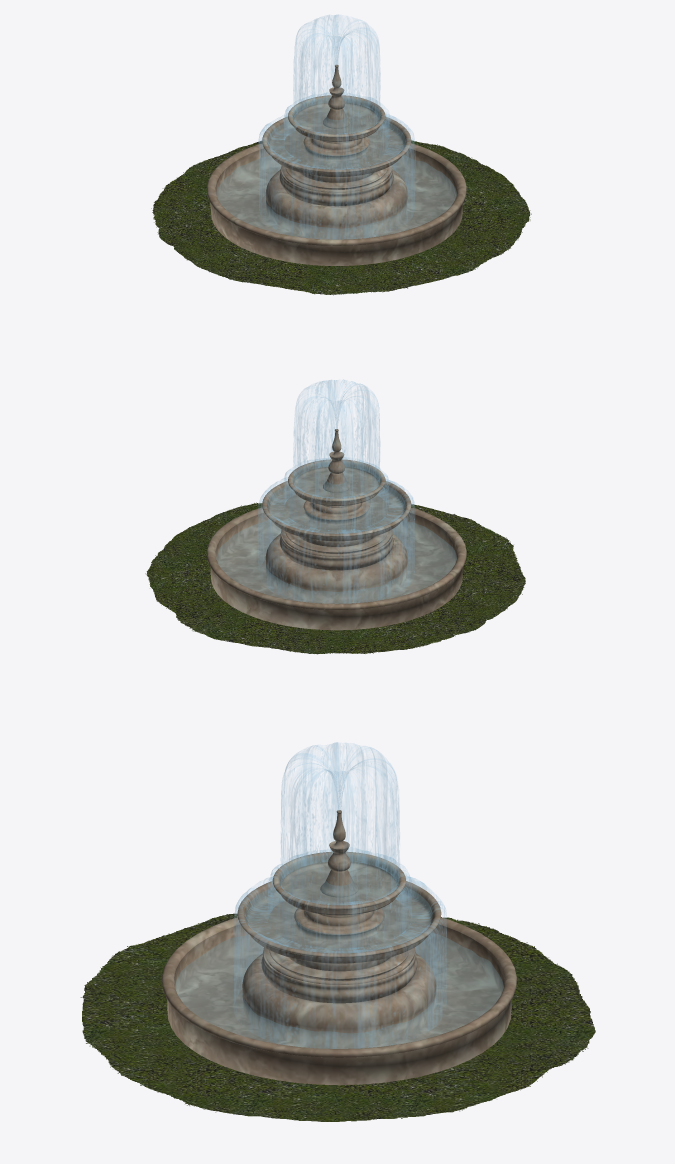
File: fountain-sim.glb
3 renders of one model, top to bottom at view 1: azimuth 30°, elevation 25°; view 2: azimuth 150°, elevation 25°; view 3: azimuth 270°, elevation 25°, orthographic. The views are drawn at different scales.
Parts seen in each view (by area): view 1: h_1Shape, hShape, fShape, f_1Shape, f_3Shape, f_2Shape; view 2: h_1Shape, hShape, fShape, f_1Shape, f_3Shape, f_2Shape; view 3: h_1Shape, hShape, fShape, f_1Shape, f_3Shape, f_2Shape.
Part boxes in pixels (x1,y1,x2,y2): h_1Shape: [206, 64, 466, 265]; hShape: [151, 140, 531, 295]; fShape: [258, 14, 415, 239]; f_1Shape: [216, 155, 456, 239]; f_3Shape: [268, 121, 405, 169]; f_2Shape: [293, 98, 380, 133]; h_1Shape: [207, 429, 466, 630]; hShape: [145, 502, 525, 654]; fShape: [258, 379, 414, 603]; f_1Shape: [216, 520, 456, 603]; f_3Shape: [268, 485, 405, 533]; f_2Shape: [292, 462, 380, 497]; h_1Shape: [162, 810, 516, 1085]; hShape: [80, 913, 595, 1121]; fShape: [233, 742, 446, 1048]; f_1Shape: [175, 933, 503, 1048]; f_3Shape: [245, 887, 432, 952]; f_2Shape: [279, 855, 399, 904].
Bounding box in the file's own units: 1981 × 865 × 1981.
4 materials, 4 textured.
